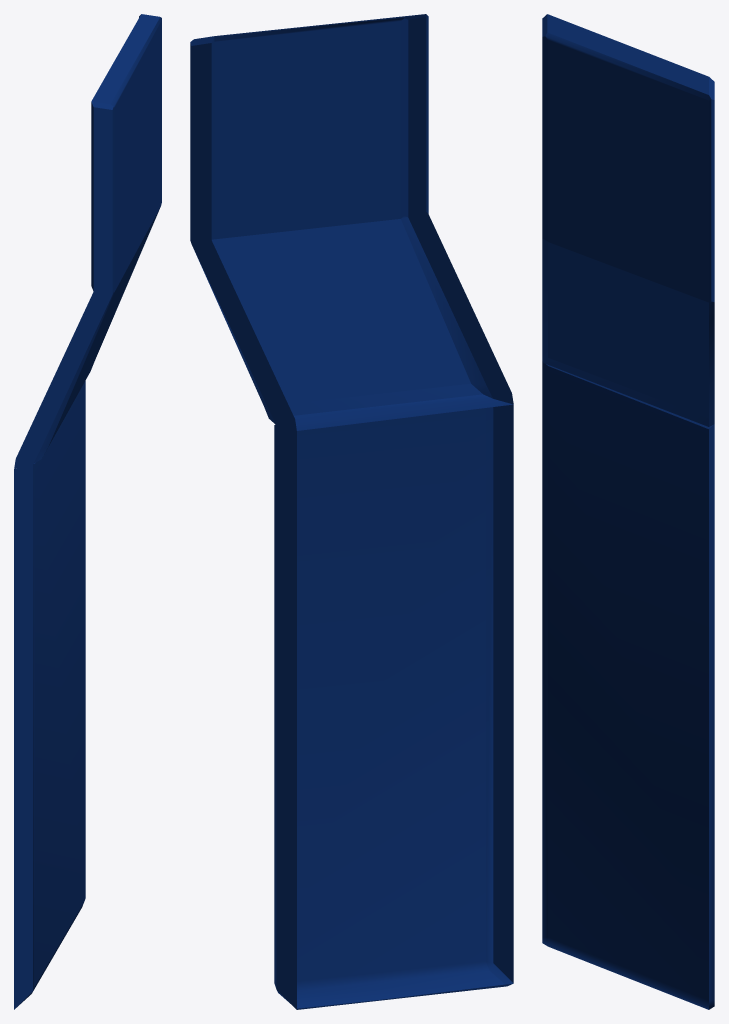
The model's file is Module_Ss_wall_2xL_thick1.FBX.
The picture shows the model from 3 angles, left to right: view 1: azimuth 30°, elevation 25°; view 2: azimuth 150°, elevation 25°; view 3: azimuth 270°, elevation 25°; orthographic projection. The views are drawn at different scales.
Parts seen in each view (by area): view 1: Module_Ss_wall_2xL_thick1a, Module_Ss_wall_2xL_thick1b; view 2: Module_Ss_wall_2xL_thick1a, Module_Ss_wall_2xL_thick1b; view 3: Module_Ss_wall_2xL_thick1a, Module_Ss_wall_2xL_thick1b.
Boxes of the visible parts, <box> form: Module_Ss_wall_2xL_thick1a: <box>14,381,85,1009</box>; Module_Ss_wall_2xL_thick1b: <box>14,14,161,469</box>; Module_Ss_wall_2xL_thick1a: <box>274,404,513,1009</box>; Module_Ss_wall_2xL_thick1b: <box>190,14,513,430</box>; Module_Ss_wall_2xL_thick1a: <box>542,361,714,1009</box>; Module_Ss_wall_2xL_thick1b: <box>542,14,714,426</box>.
Bounding box in the file's own units: 34.06 × 129 × 20.61.
